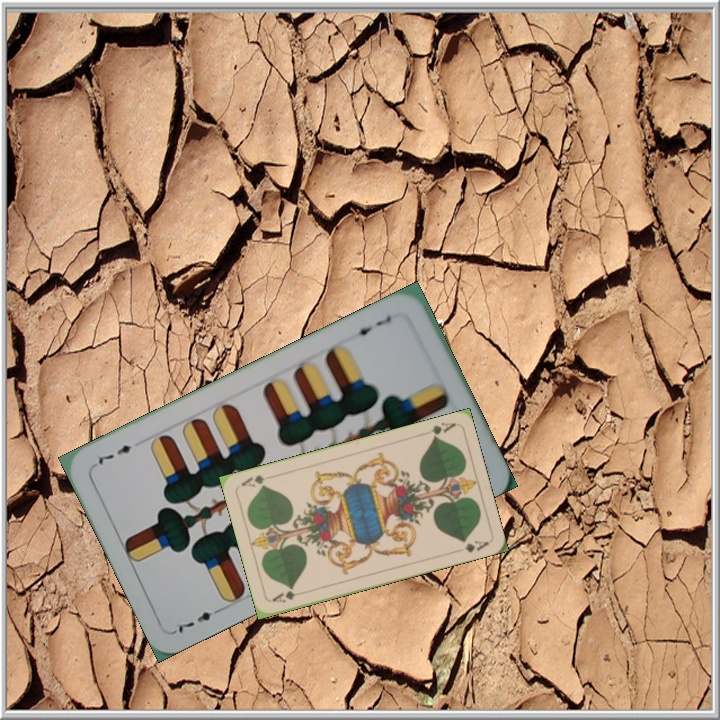E7: (170, 603, 226, 636), (348, 312, 395, 338)
GA: (268, 585, 308, 605), (427, 418, 458, 442)
